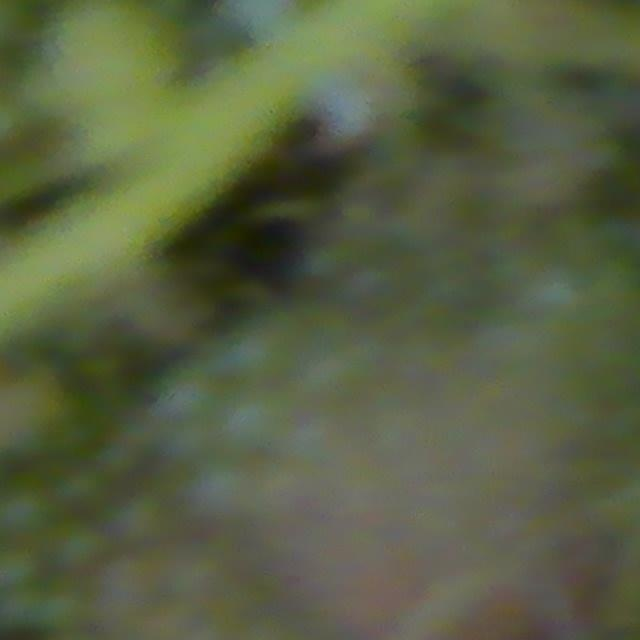SeaGrape: (217, 383, 290, 455), (185, 457, 255, 524), (154, 364, 220, 427), (0, 482, 53, 541), (51, 516, 107, 570), (0, 544, 40, 591)
